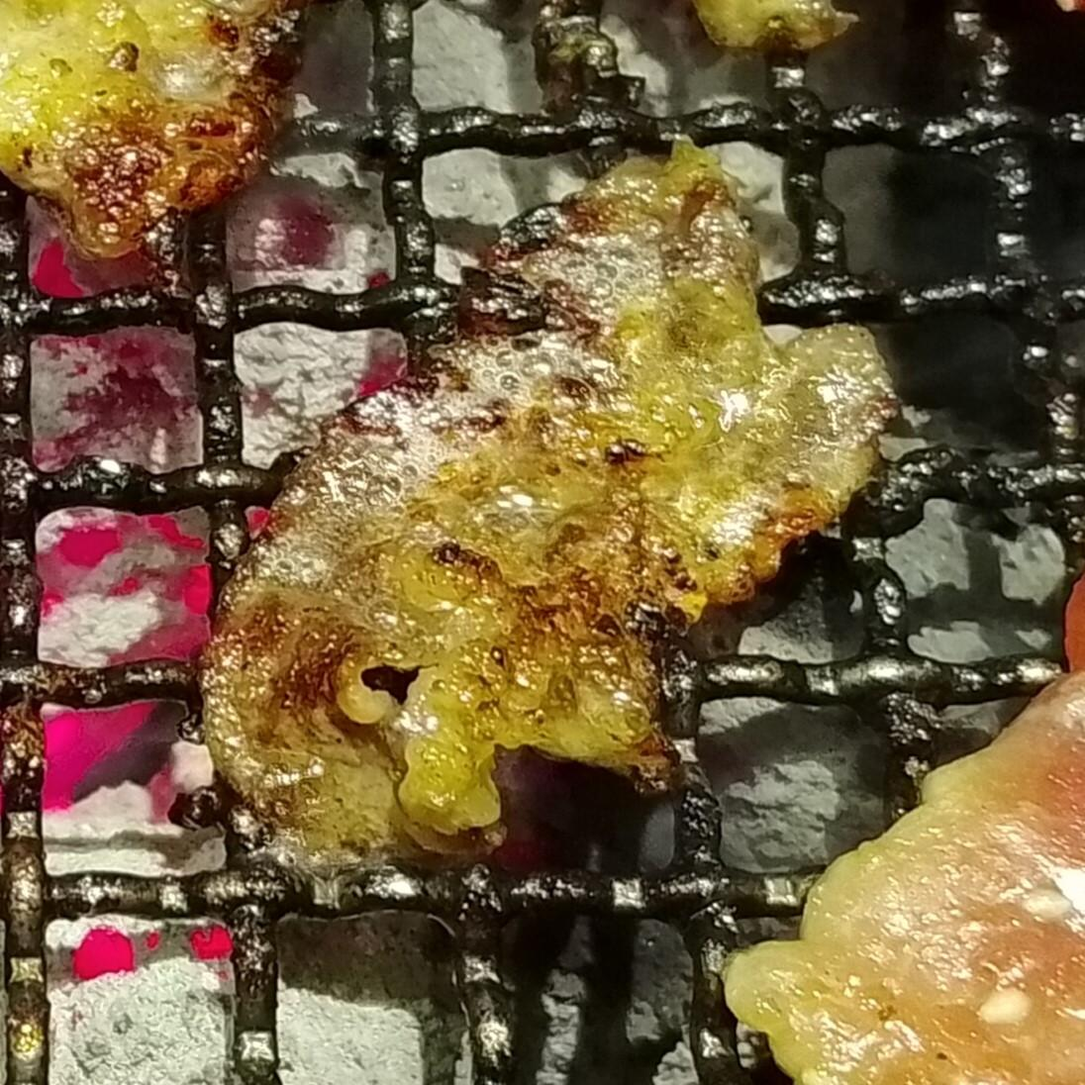Overcooked: (197, 139, 900, 908)
Undercooked: (725, 666, 1084, 1084)
Well-Cooked: (0, 0, 320, 259)
